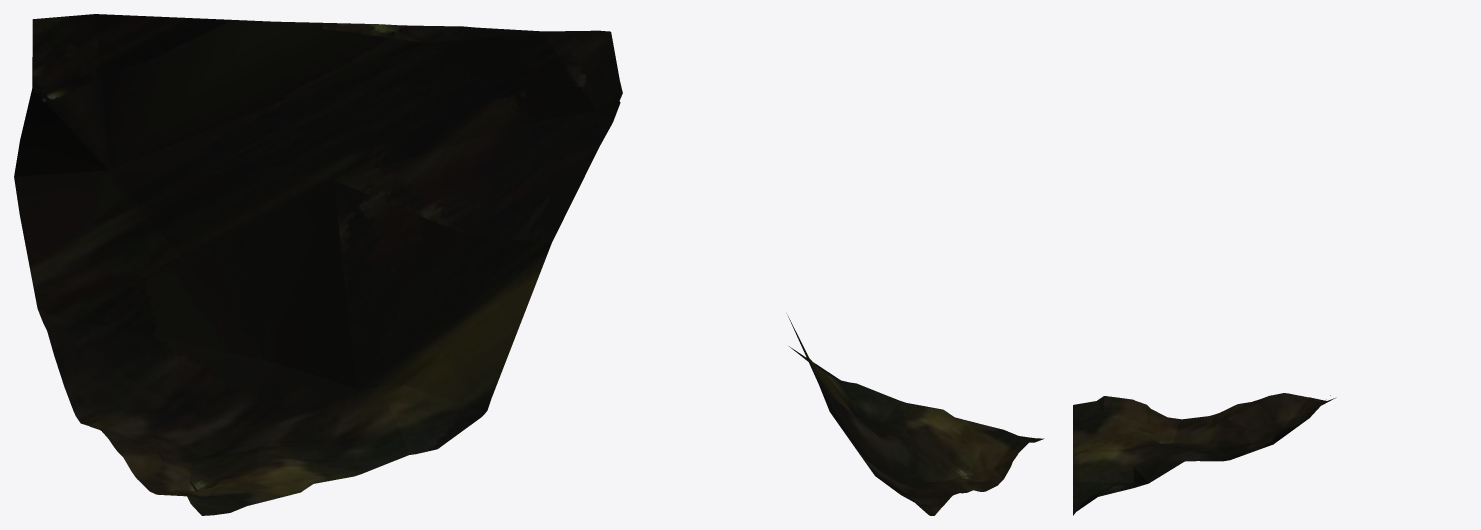
The picture shows the model from 3 angles, left to right: view 1: azimuth 30°, elevation 25°; view 2: azimuth 150°, elevation 25°; view 3: azimuth 270°, elevation 25°; orthographic projection. The views are drawn at different scales.
Bounding box in the file's own units: 0.8374 × 0.7451 × 0.6474.
3 materials, 3 textured.
